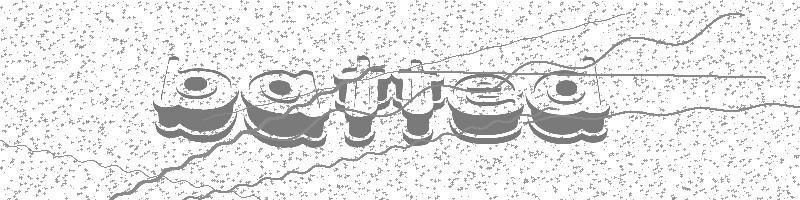a: (241, 68, 332, 149)
b: (152, 55, 240, 143)
d: (525, 56, 610, 145)
e: (447, 73, 524, 145)
t: (332, 54, 392, 148), (391, 57, 446, 147)
